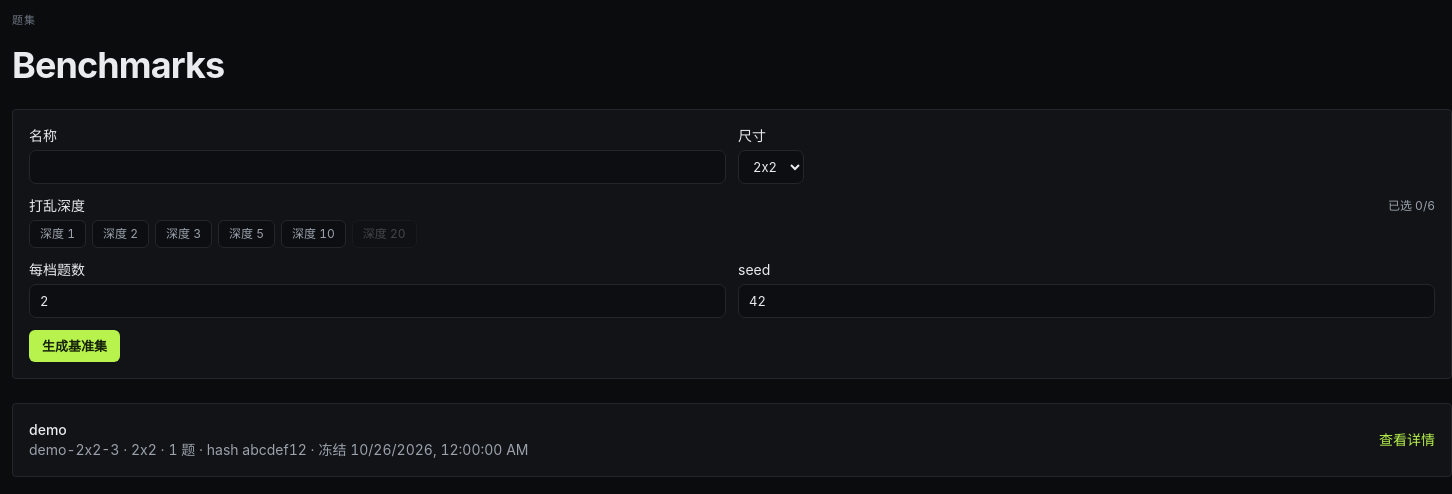
Test case: BenchmarksView › shows a conflict error from the parent
The width and height of the screenshot is (1452, 494).
Type "demo" into the field labelled "名称" at [378, 167], box [29,150,726,184]
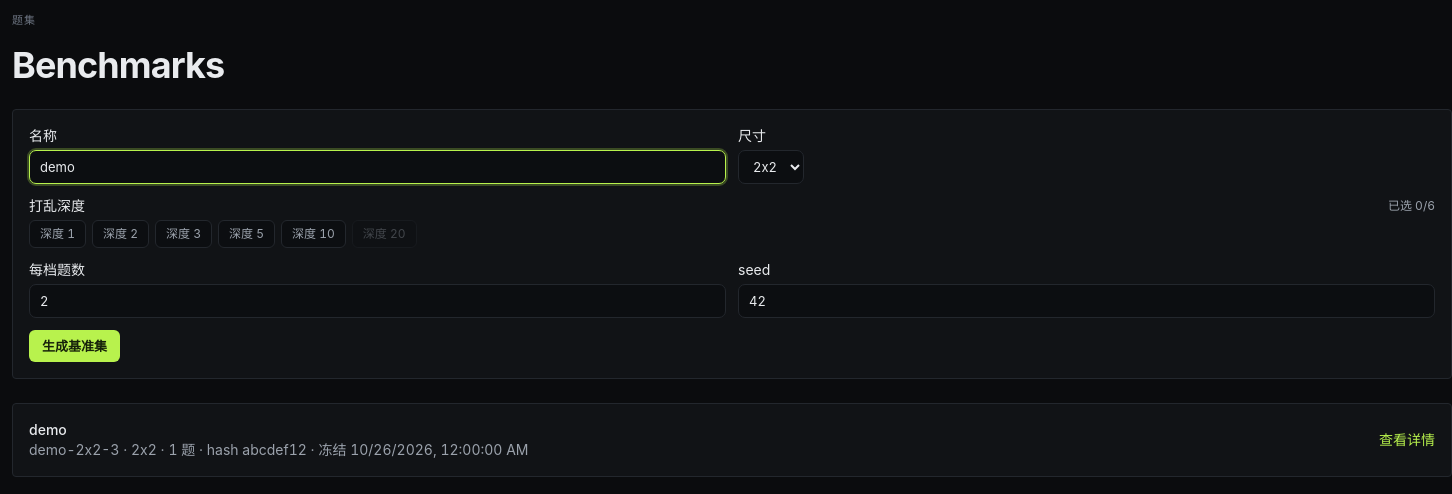
Click the checkbox labelled "深度 1" at [58, 234], box [29,220,86,248]
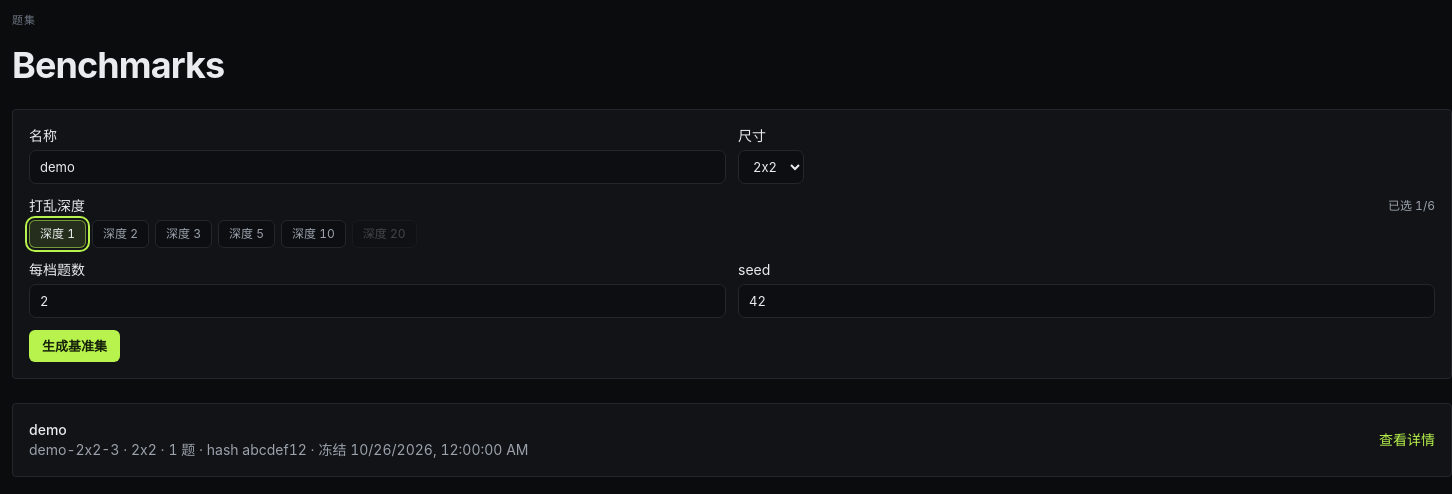
Click the button "生成基准集" at [74, 346], box [29,330,120,362]
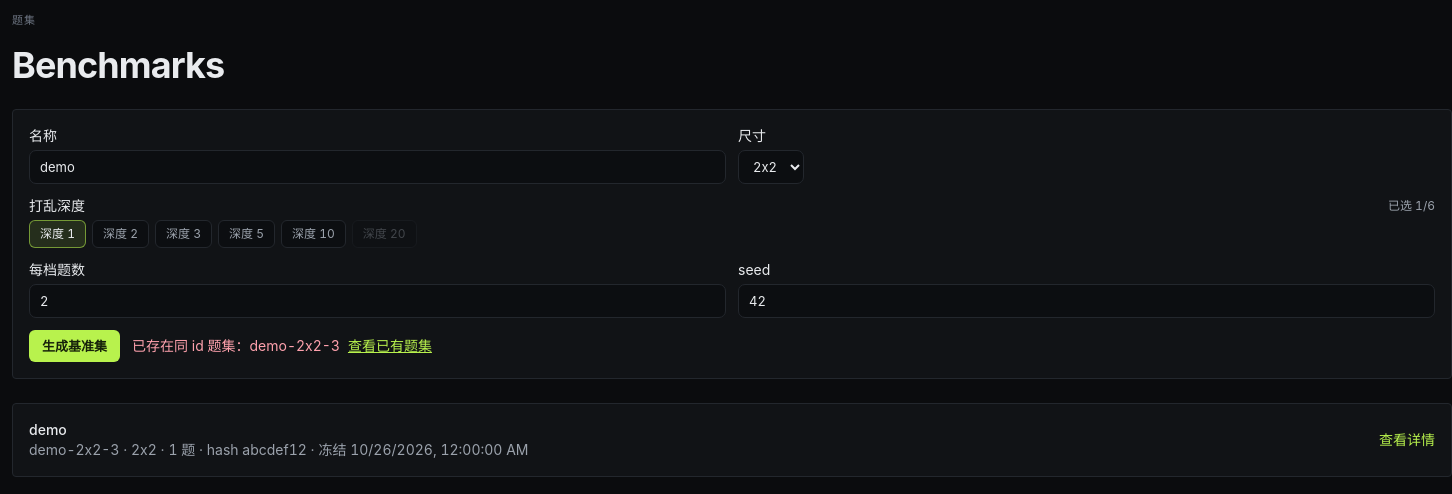
Result: the message shows "已存在同 id 题集" at [132,337,340,354]
